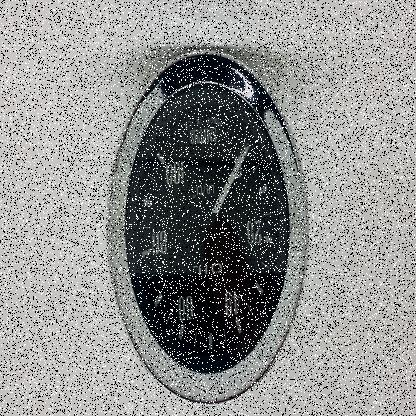needle: (209, 142, 250, 221)
